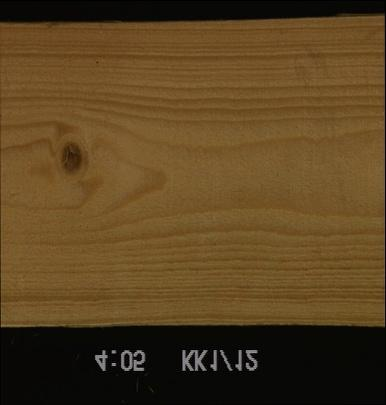sound_knot: (58, 141, 86, 175)
